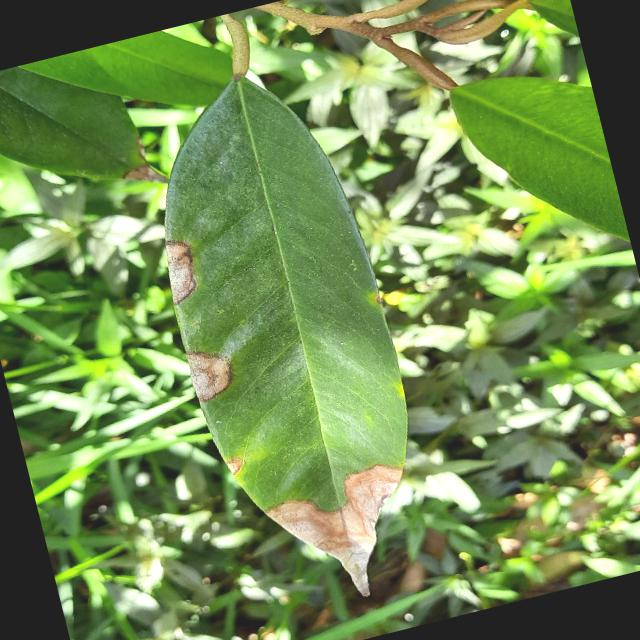Leaf Blight: (106, 46, 465, 634)
